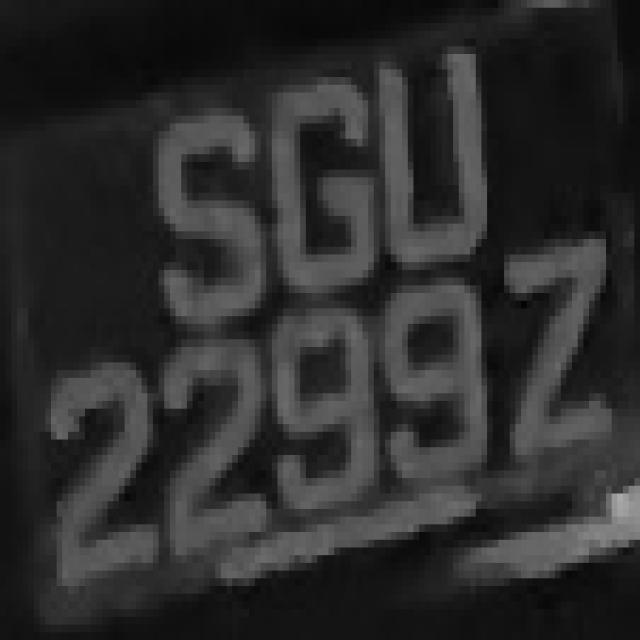2: (153, 324, 272, 570), (23, 347, 147, 578)
9: (357, 254, 493, 509), (255, 301, 385, 509)
G: (249, 54, 385, 293)
S: (136, 108, 255, 332)
U: (368, 23, 510, 262)
Z: (487, 216, 617, 501)
